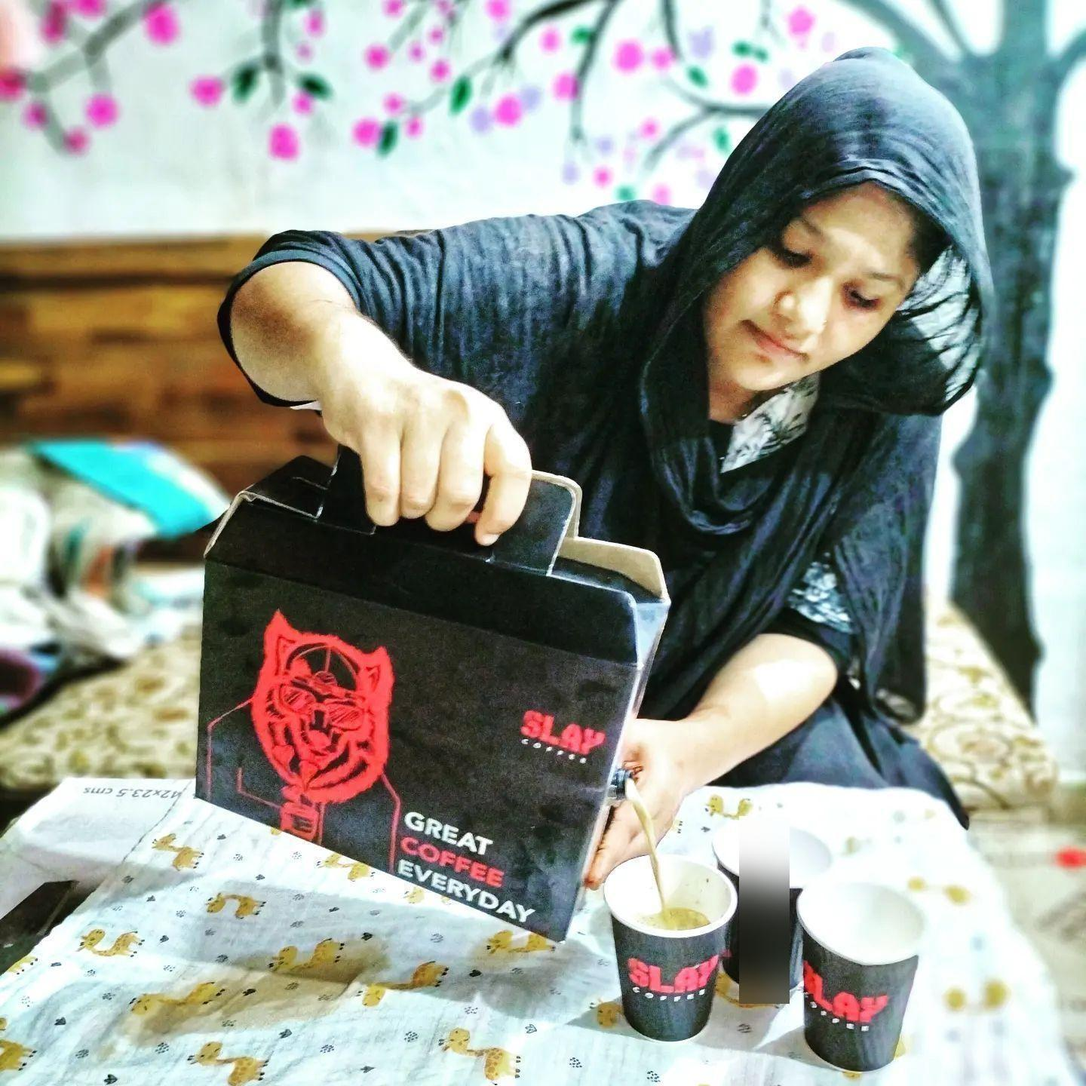cup-disposable: (796, 870, 931, 1071), (603, 847, 736, 1047)
